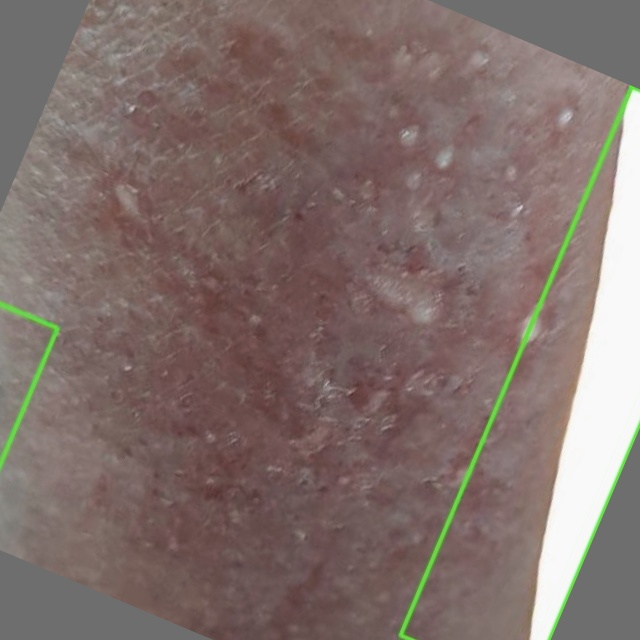Atopic Dermatitis: (400, 86, 639, 639)
